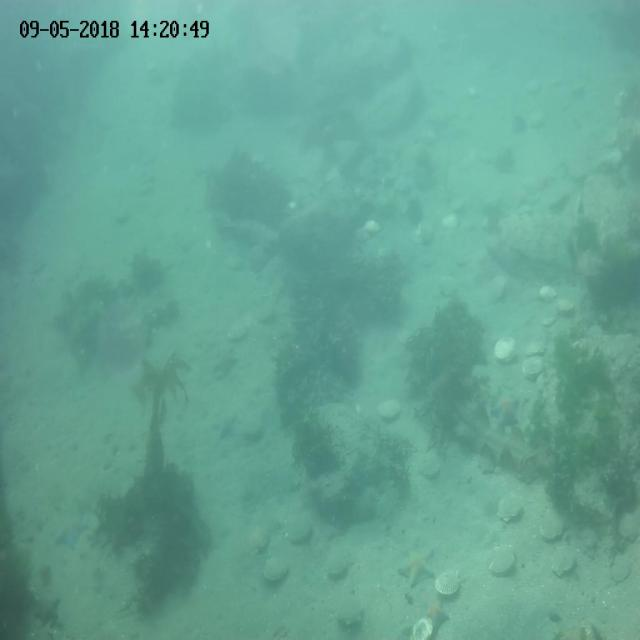scallop: (486, 543, 516, 578), (549, 544, 579, 576), (334, 599, 366, 628), (538, 514, 567, 544), (496, 495, 526, 523), (434, 569, 462, 596), (494, 335, 520, 364), (619, 511, 640, 542), (263, 556, 289, 581), (377, 397, 402, 422), (417, 456, 443, 480), (475, 451, 499, 476), (522, 356, 546, 381), (487, 274, 506, 304), (290, 521, 312, 545), (525, 337, 548, 358), (325, 558, 348, 577), (554, 298, 576, 316), (539, 282, 558, 301), (364, 217, 383, 236), (442, 215, 459, 230)
starfish: (396, 544, 441, 592), (491, 387, 522, 432), (51, 516, 88, 552), (33, 593, 64, 629), (426, 596, 450, 638), (211, 408, 240, 442), (212, 346, 239, 376)
